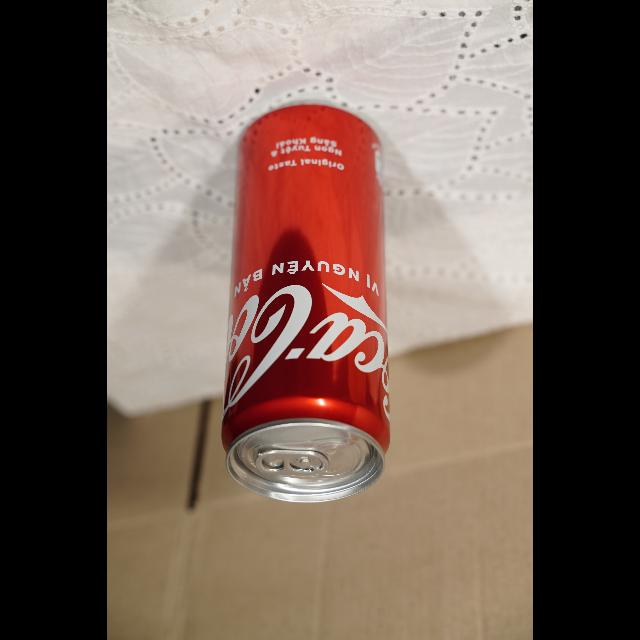coca_cola: (220, 104, 392, 503)
